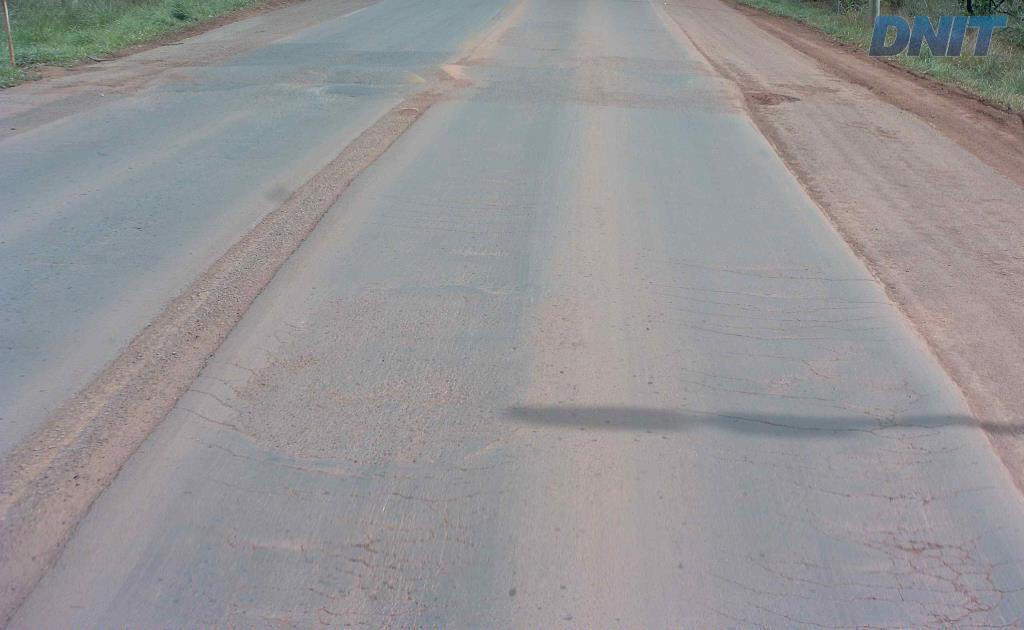crack: (690, 310, 860, 349), (961, 571, 1015, 617), (367, 577, 398, 615)
